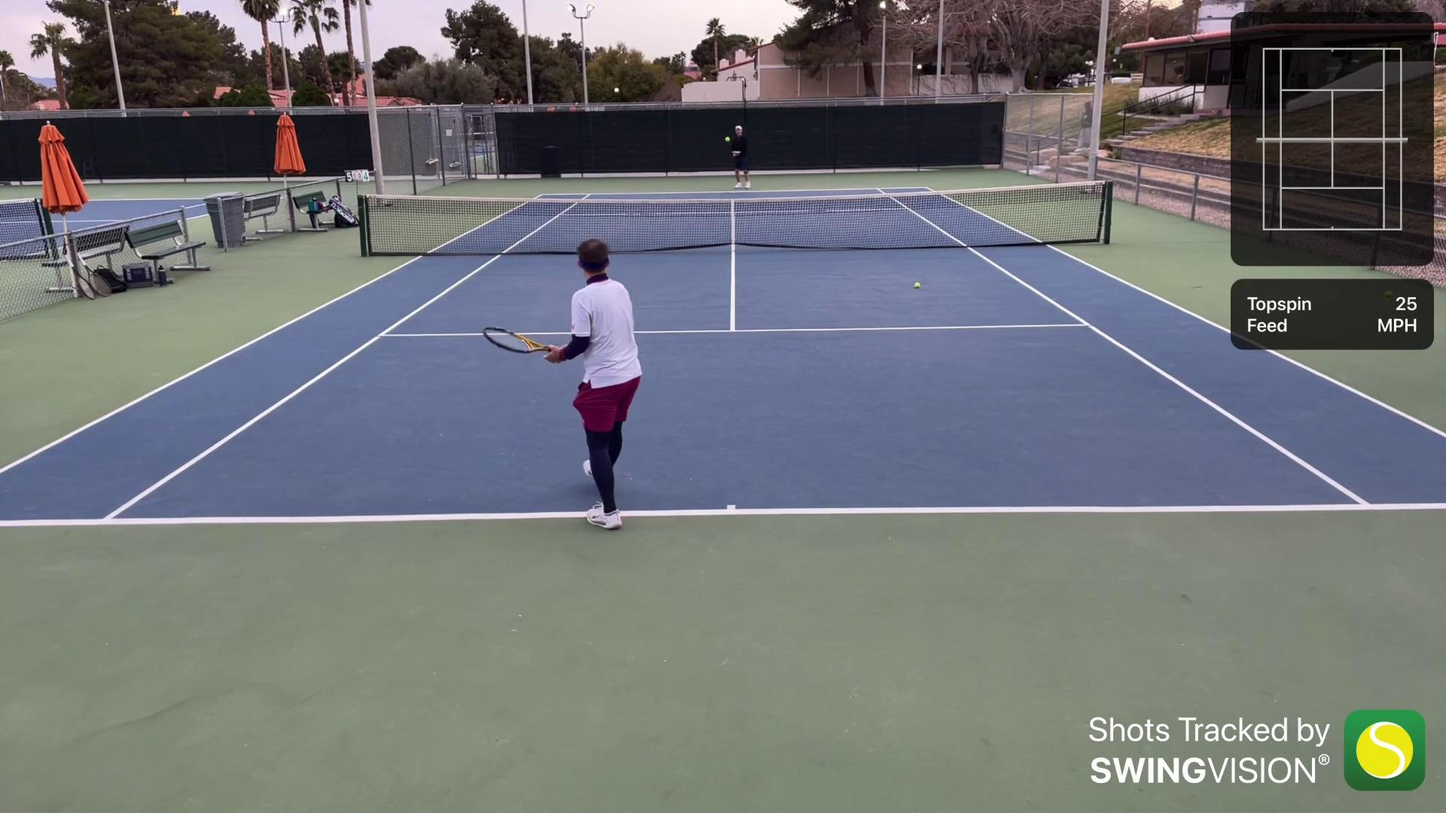ball: (911, 281, 921, 290), (724, 136, 730, 143)
